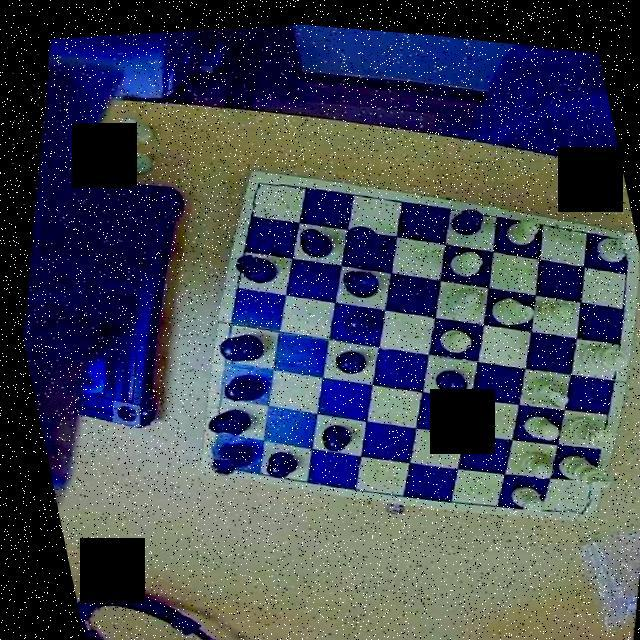chess-table-corners: (191, 433, 236, 477), (240, 165, 282, 208), (554, 481, 596, 518), (601, 216, 639, 254)
